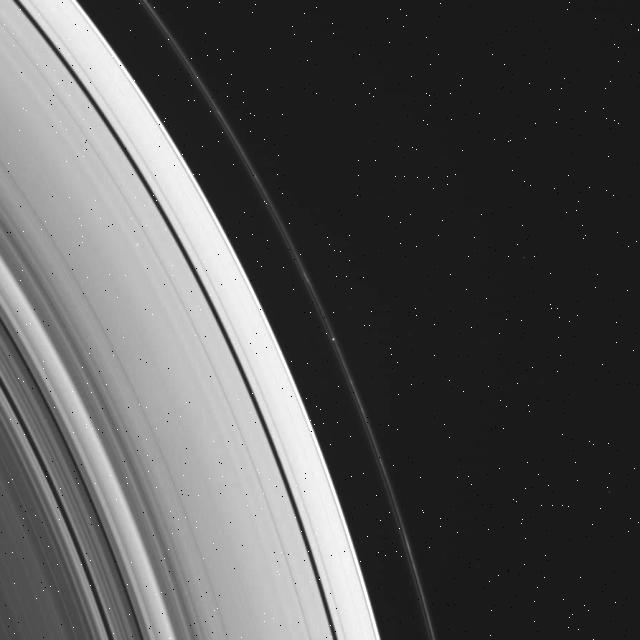Saturn: (0, 0, 460, 640)
